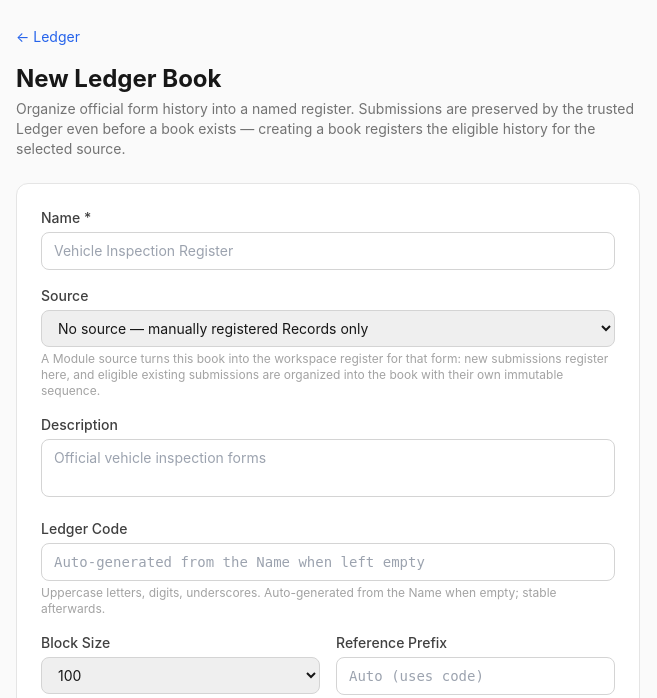
Test: CreateLedgerBookPage › surfaces trusted server rejections inline
The image size is (657, 698).
Expected: the dropdown labelled "Source" is shown, [41,310,615,347]
Type "X" into the field labelled "Name *" at (328, 251), box [41,232,615,270]
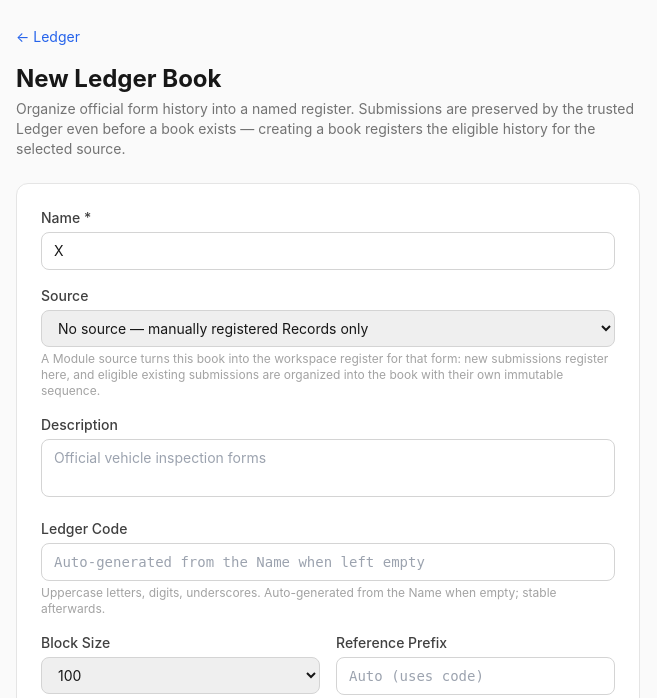
Type "XCODE" into the field labelled "Ledger Code" at (328, 562), box [41,543,615,581]
(page scrolled)
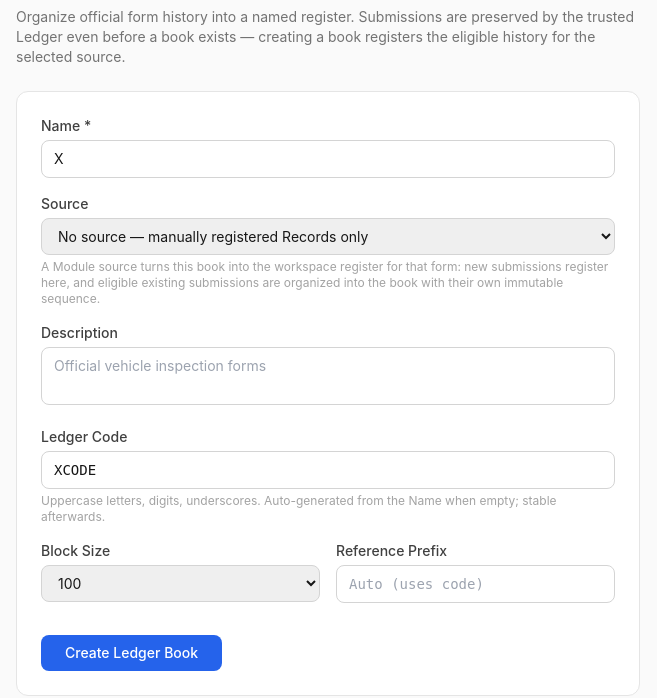
Click the button "Create Ledger Book" at (132, 653), box [41,635,222,671]
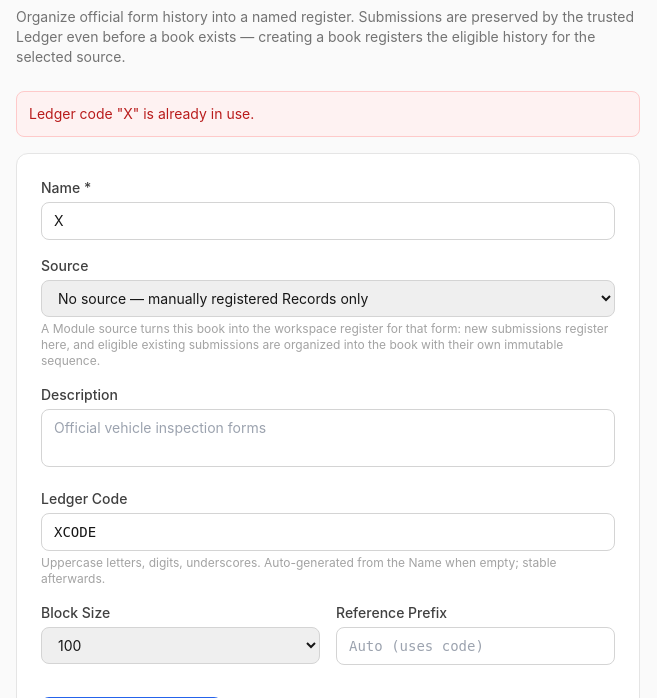
Result: the message shows "already in use" at [29,105,254,122]
